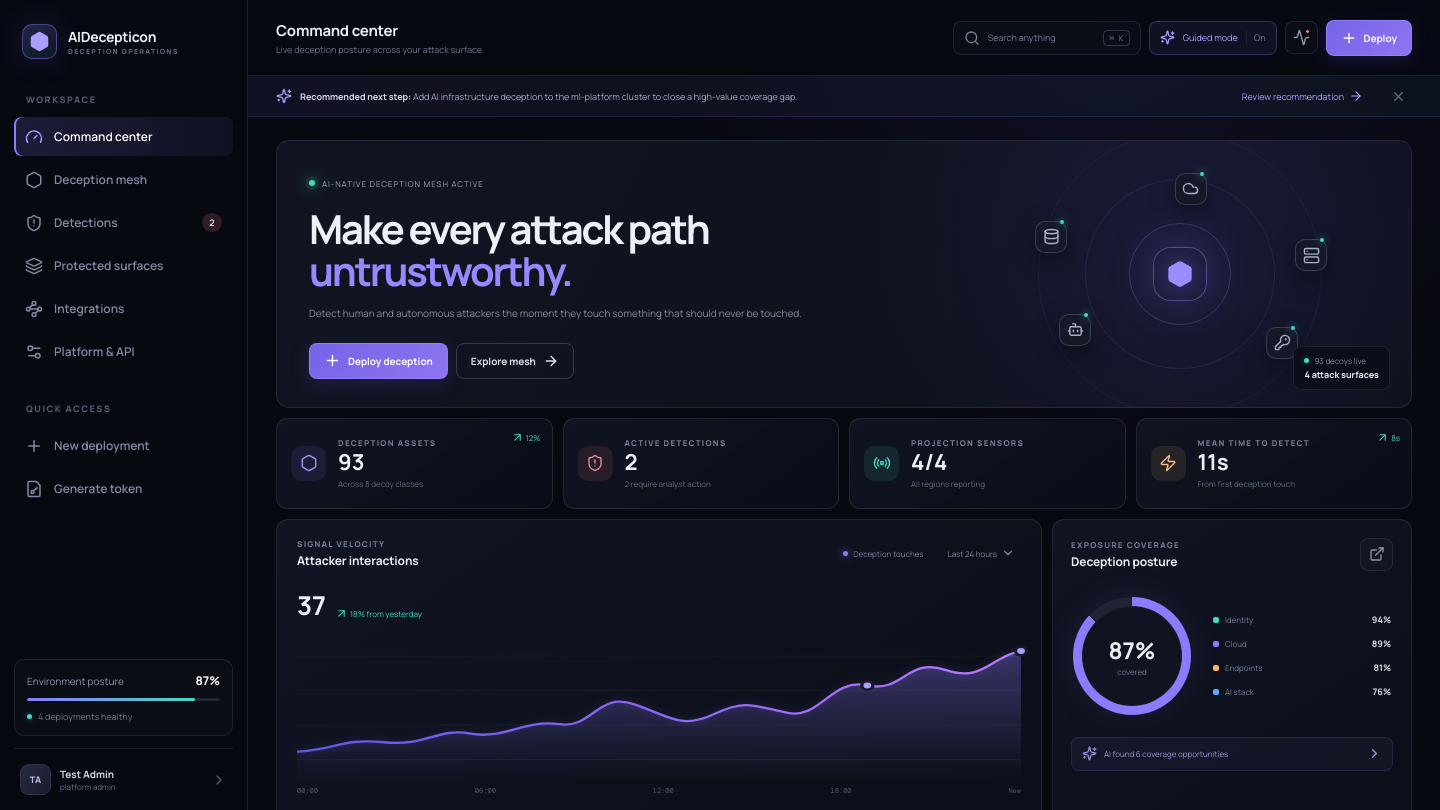
Test: AIDecepticon control plane › exposes every required decoy class in the blueprint library
Expected: the heading "Make every attack path" is shown, x1=309 y1=201 x2=709 y2=256
Click the button "Deception mesh": [124, 180] box x1=14 y1=160 x2=233 y2=199
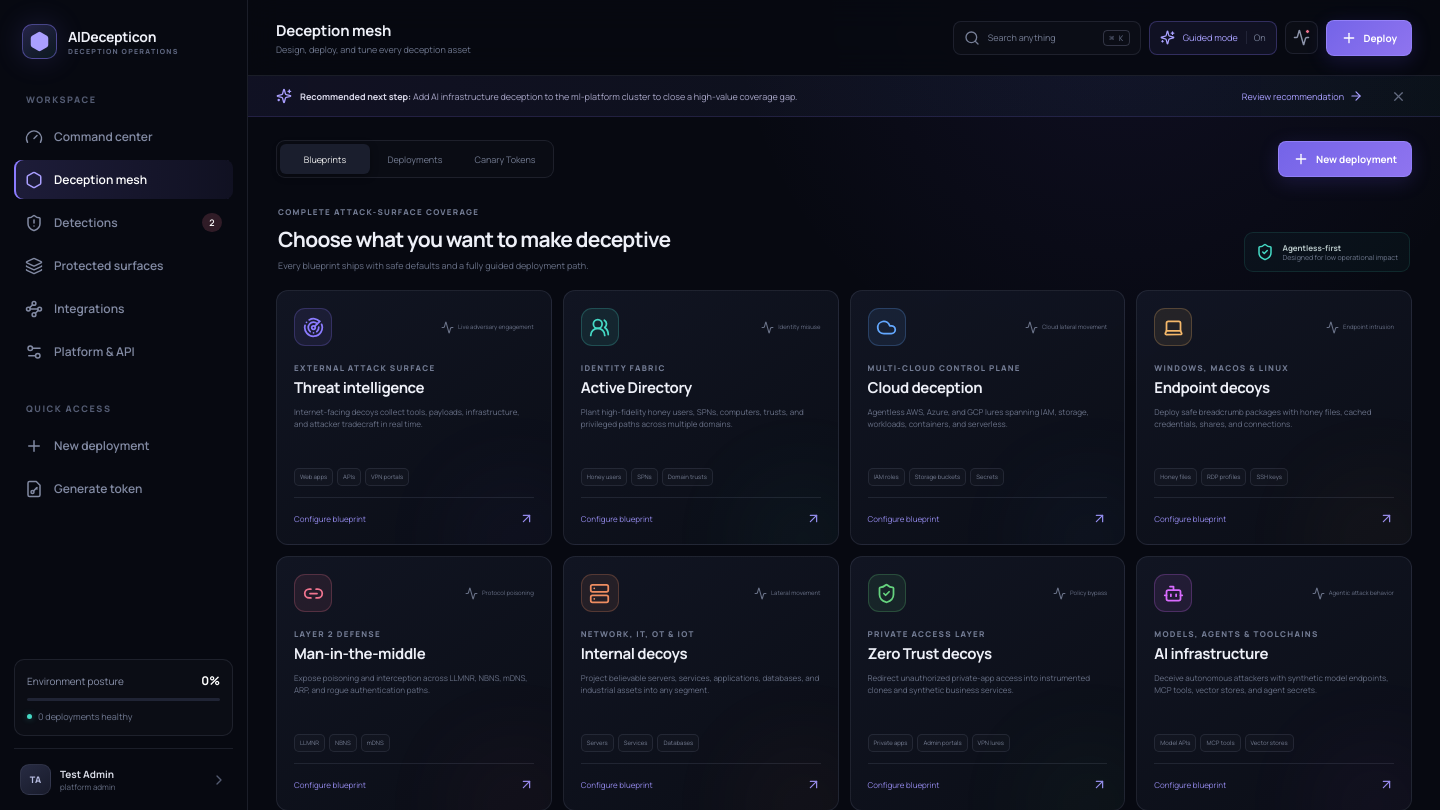
Expected: the heading "Threat intelligence" is shown, x1=294 y1=377 x2=424 y2=398
Expected: the heading "Active Directory" is shown, x1=581 y1=377 x2=692 y2=398
Expected: the heading "Cloud deception" is shown, x1=868 y1=377 x2=982 y2=398
